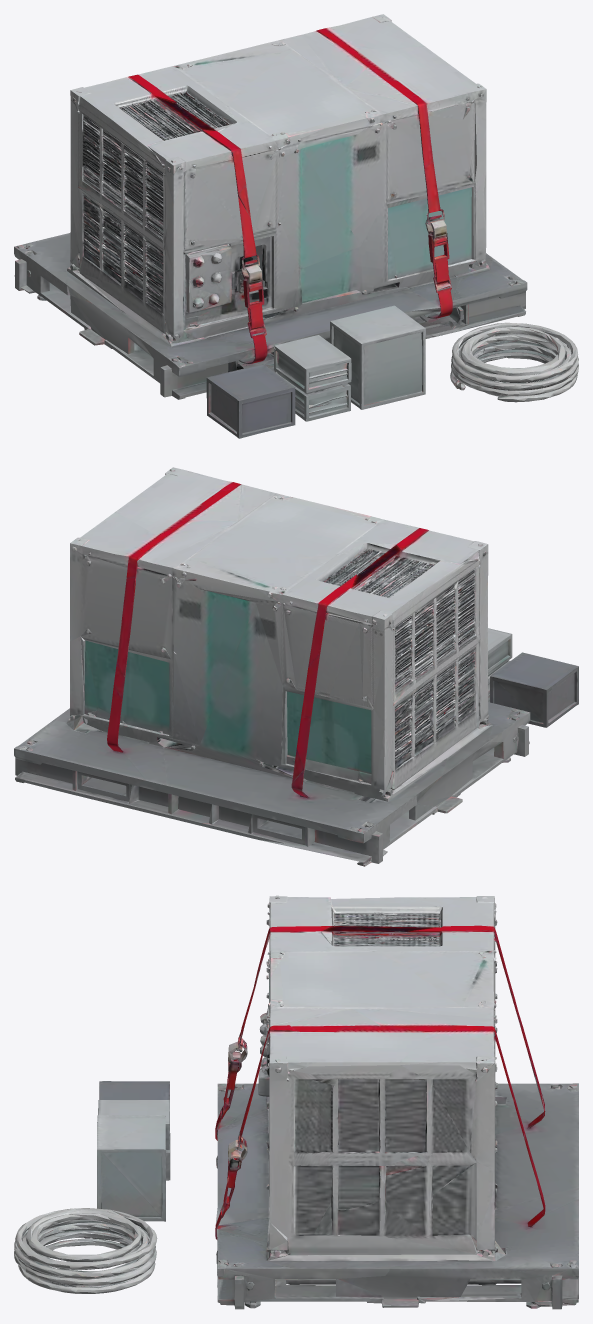
Rendered from procure.glb.
3 renders of one model, top to bottom at view 1: azimuth 30°, elevation 25°; view 2: azimuth 150°, elevation 25°; view 3: azimuth 270°, elevation 25°, orthographic. The views are drawn at different scales.
Size of the model in its own units: 1.55 by 0.8952 by 1.9.
Materials: 1 (1 with a texture image).
